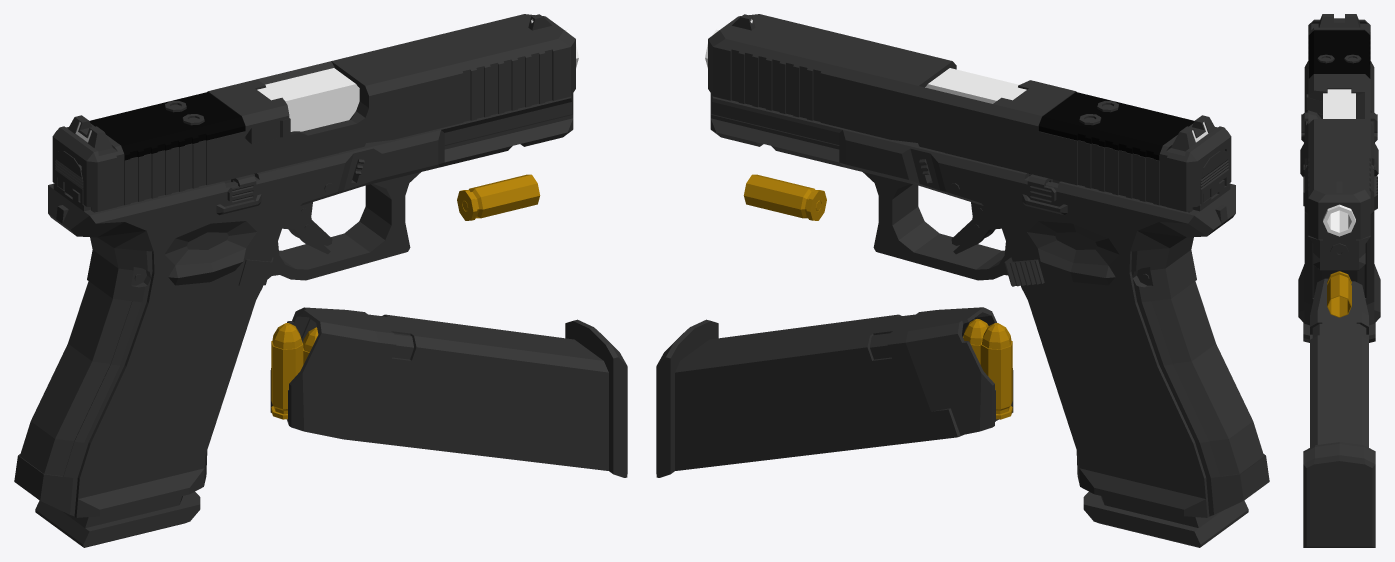
The model's file is Glock-20.fbx.
The picture shows the model from 3 angles, left to right: view 1: azimuth 30°, elevation 25°; view 2: azimuth 150°, elevation 25°; view 3: azimuth 270°, elevation 25°; orthographic projection. The views are drawn at different scales.
Parts seen in each view (by area): view 1: gun, 1025 mag, slide, 1025 mag empty, barrel, 1025mm, trigga; view 2: gun, 1025 mag, slide, 1025 mag empty, 1025mm, barrel, trigga; view 3: 1025 mag, slide, gun, barrel, 1025mm, 1025 mag empty.
Part boxes in pixels (left/top/right/bottom): gun: left=14, top=93, right=573, bottom=517; 1025 mag: left=270, top=307, right=627, bottom=477; slide: left=52, top=14, right=575, bottom=211; 1025 mag empty: left=35, top=173, right=254, bottom=547; barrel: left=257, top=30, right=578, bottom=131; 1025mm: left=457, top=174, right=540, bottom=220; trigga: left=282, top=183, right=333, bottom=254; gun: left=710, top=93, right=1269, bottom=517; 1025 mag: left=656, top=307, right=1013, bottom=477; slide: left=708, top=14, right=1231, bottom=211; 1025 mag empty: left=1029, top=173, right=1248, bottom=547; 1025mm: left=743, top=174, right=826, bottom=220; barrel: left=705, top=30, right=1026, bottom=103; trigga: left=950, top=183, right=1001, bottom=254; 1025 mag: left=1303, top=278, right=1375, bottom=547; slide: left=1306, top=14, right=1370, bottom=264; gun: left=1298, top=61, right=1380, bottom=325; barrel: left=1323, top=89, right=1355, bottom=236; 1025mm: left=1327, top=271, right=1351, bottom=317; 1025 mag empty: left=1303, top=323, right=1375, bottom=342.
Size of the model in its own units: 219 by 166 by 35.86.
